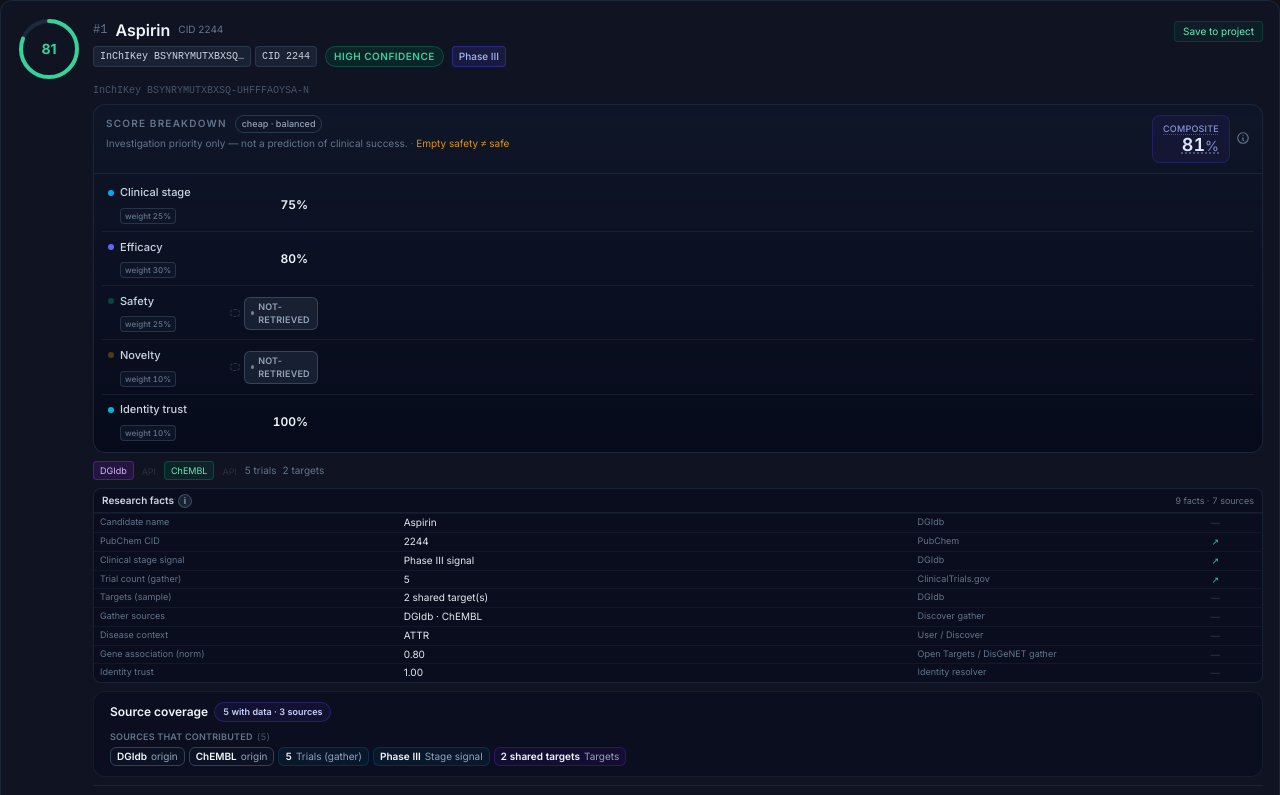
Test: CandidateCard › does not use legacy 35/25/20/20 explainer weights
What coordinates should you click on to do the following:
click the button with test id "score-explainer-toggle"
I would click on:
 (1243, 138)
Its box is x1=1236 y1=131 x2=1250 y2=145.
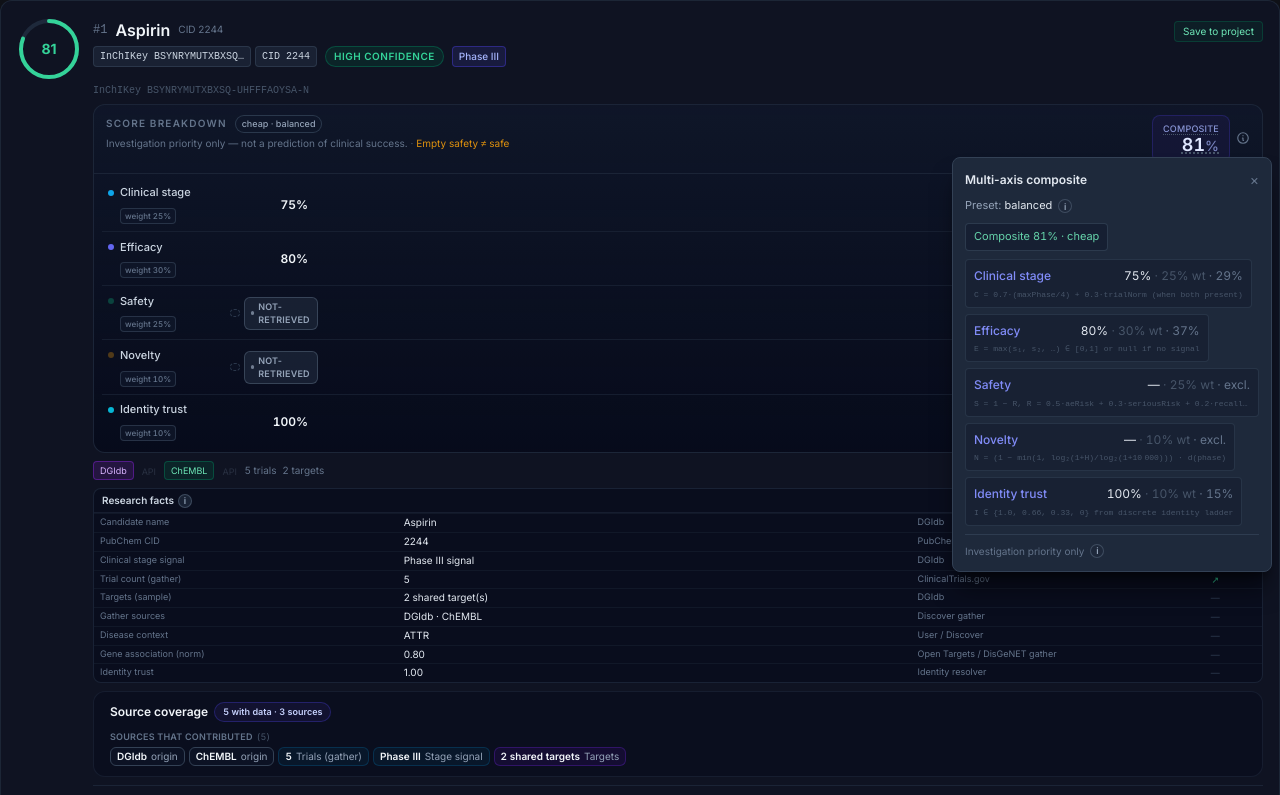
expect the element with test id "score-explainer-panel" does not show "Gene Association": met
expect the tooltip with test id "score-explainer-panel" shows "Clinical stage": met, box x1=974 y1=268 x2=1051 y2=283
expect the tooltip with test id "score-explainer-panel" shows "Efficacy": met, box x1=974 y1=322 x2=1020 y2=338
